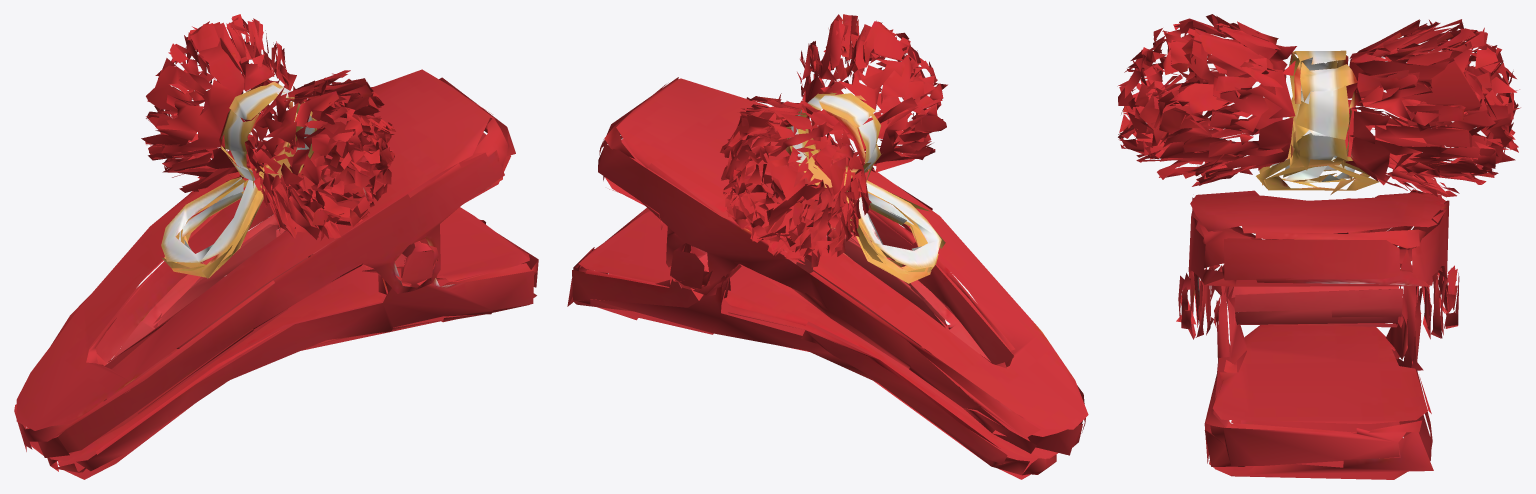
Rendered from gear_spirit_hair.glb.
3 renders of one model, left to right at view 1: azimuth 30°, elevation 25°; view 2: azimuth 150°, elevation 25°; view 3: azimuth 270°, elevation 25°, orthographic. The views are drawn at different scales.
Parts seen in each view (by area): view 1: gear_spirit_hair; view 2: gear_spirit_hair; view 3: gear_spirit_hair.
Part boxes in pixels (x1,y1,x2,y2): gear_spirit_hair: (14, 14, 538, 479); gear_spirit_hair: (567, 14, 1088, 479); gear_spirit_hair: (1117, 14, 1520, 479).
Bounding box in the file's own units: 0.6772 × 0.498 × 0.4023.
Materials: 1 (1 with a texture image).
